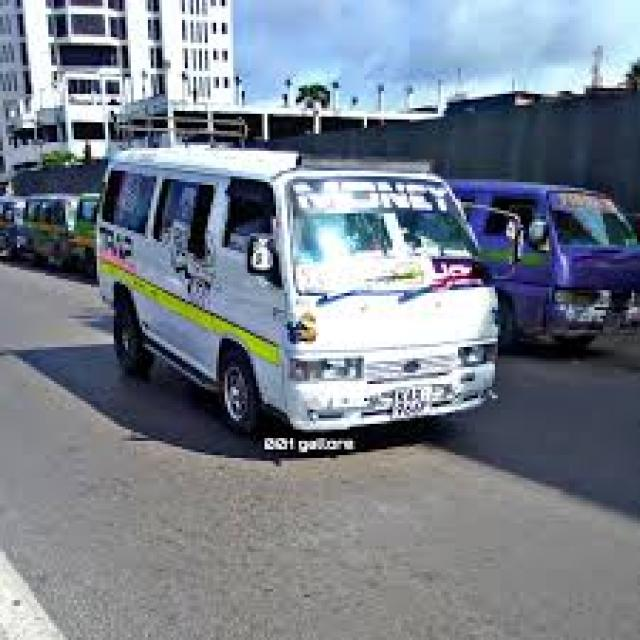matatu: (87, 107, 534, 470)
